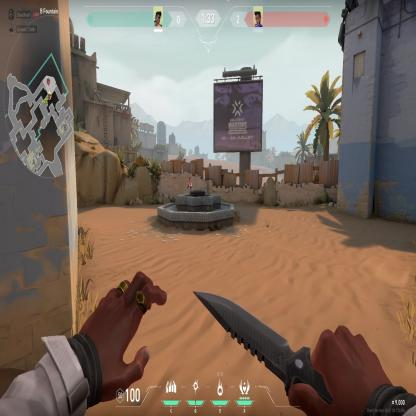enemy: (186, 175, 192, 194)
